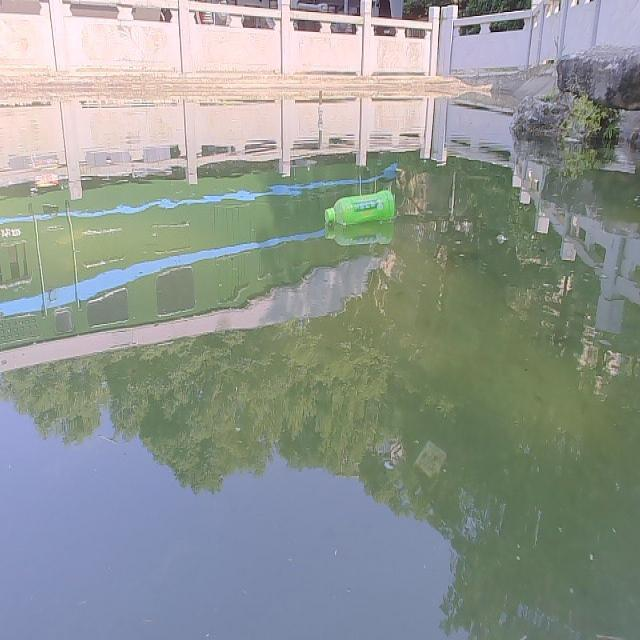bottle: (320, 187, 398, 229)
